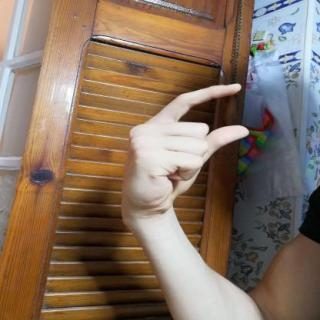DELL: (110, 76, 262, 222)
